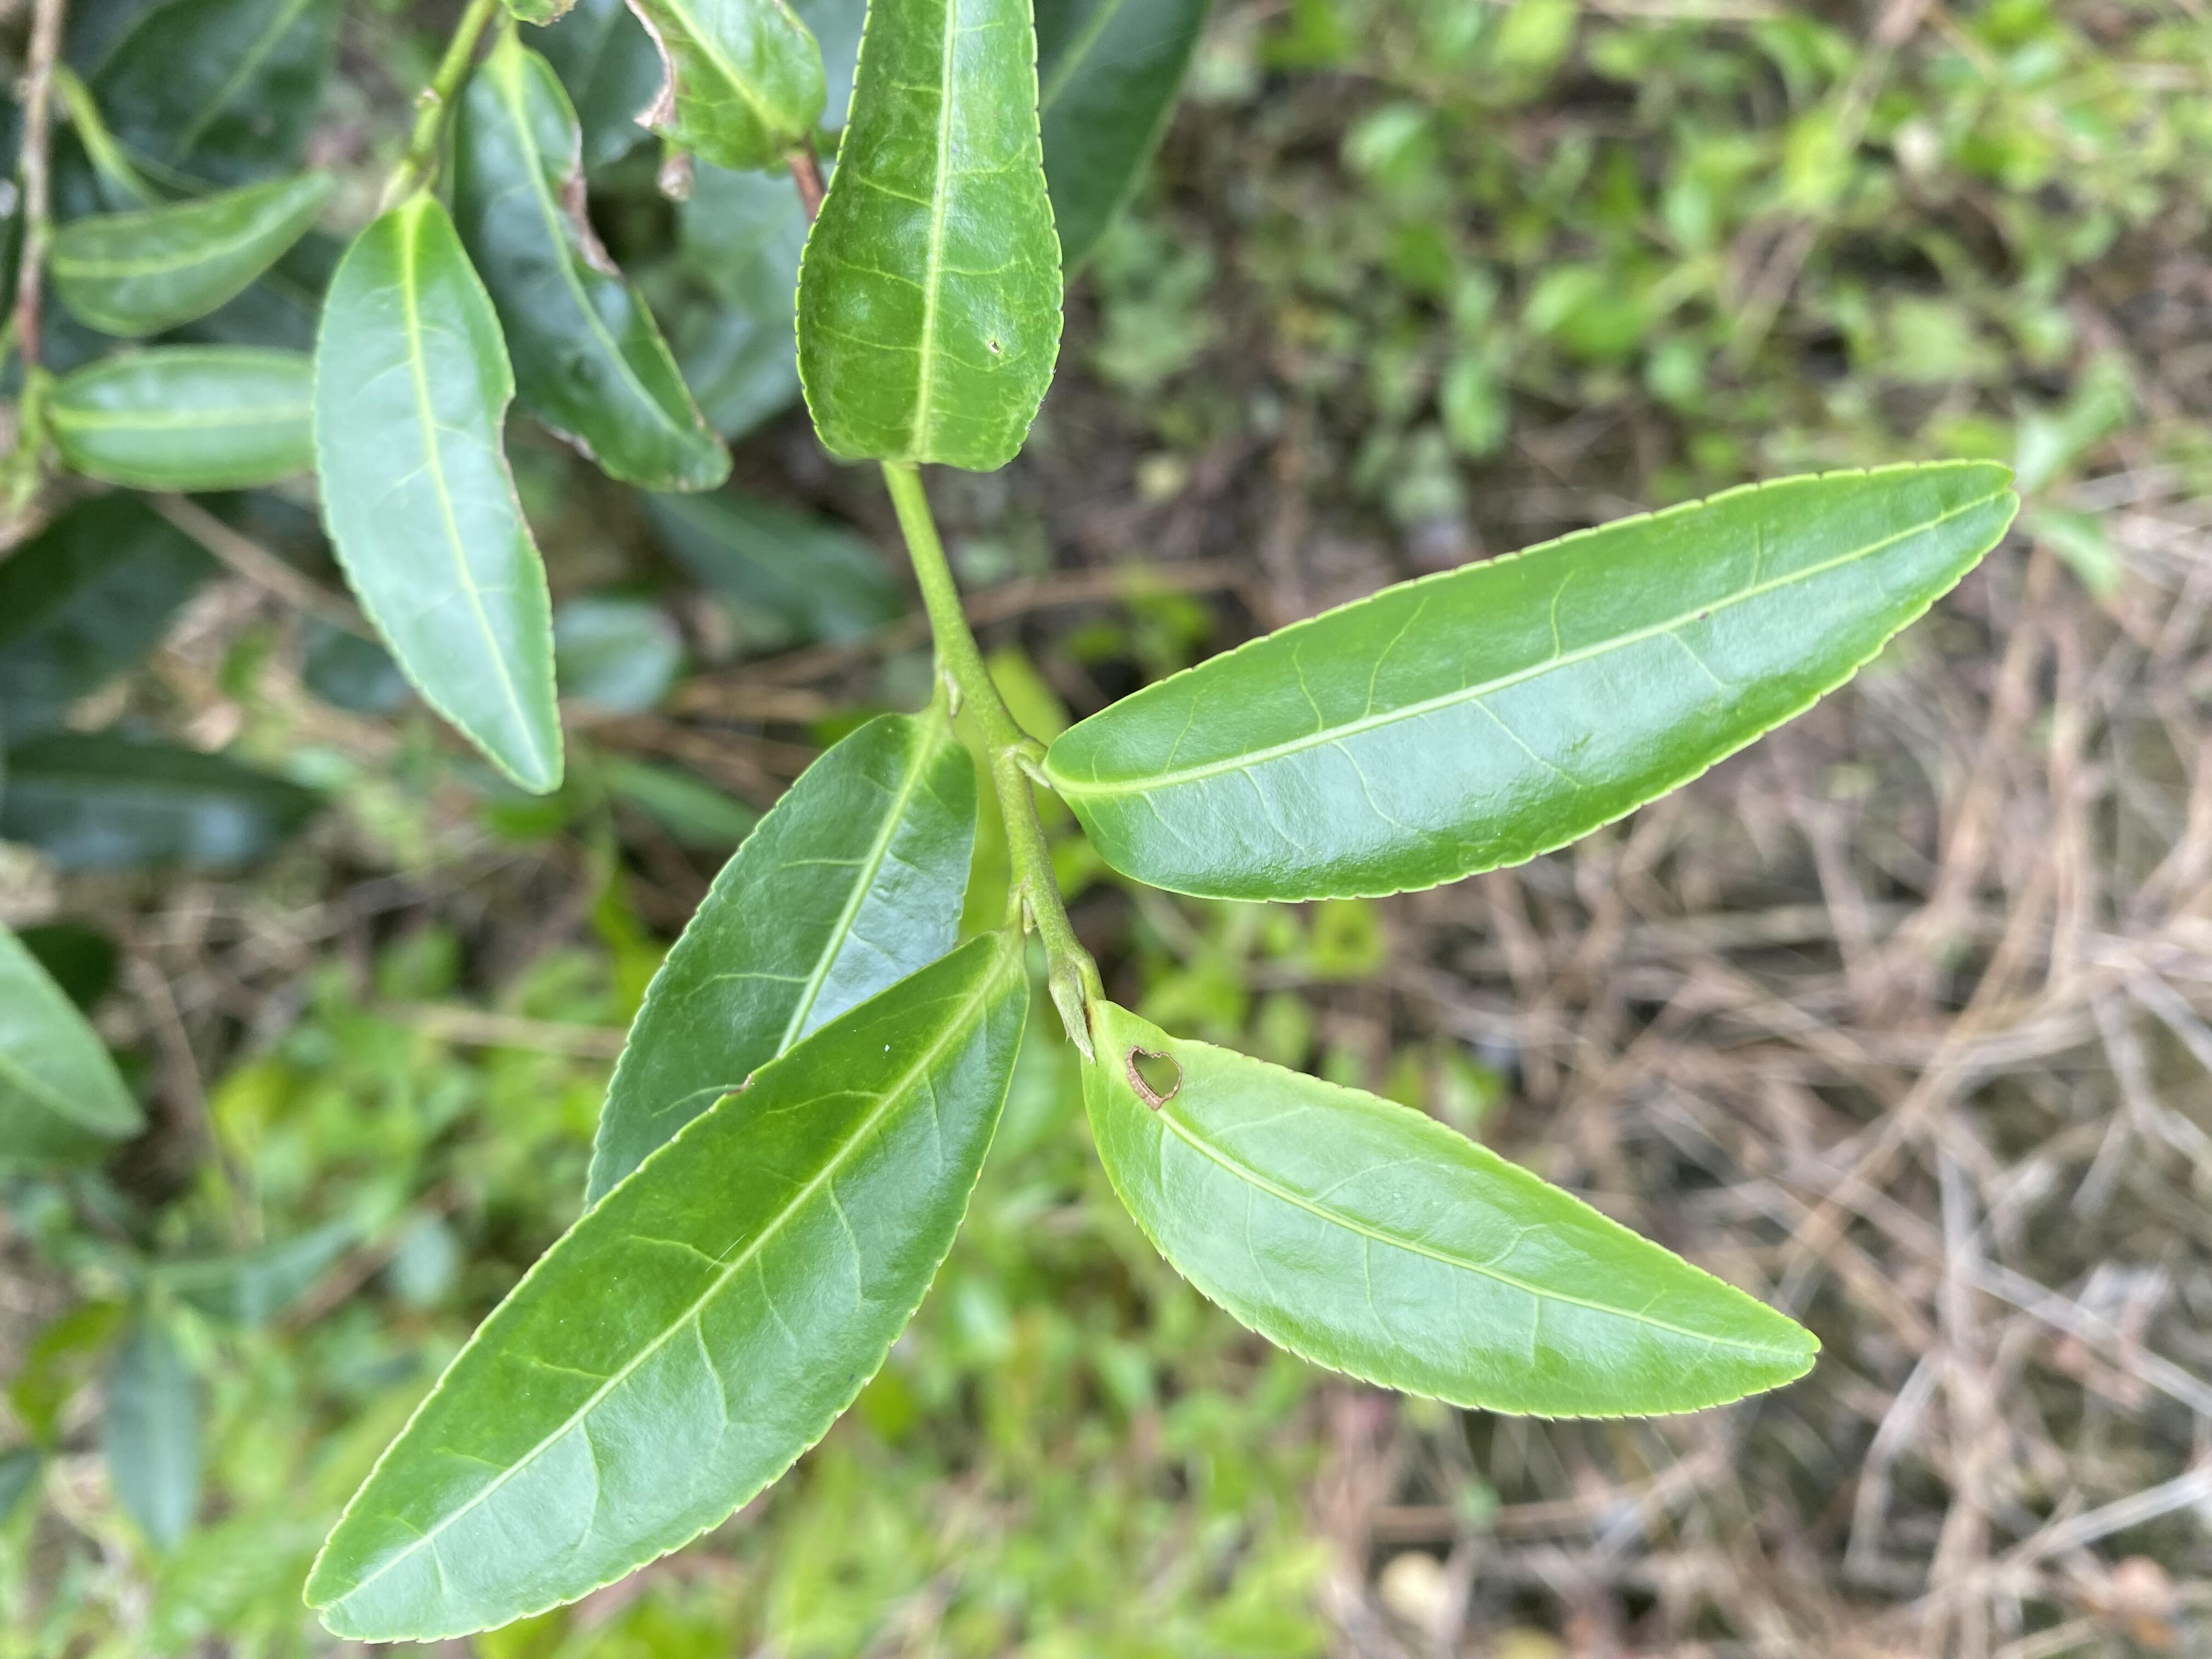chihuo_low: (1076, 993, 1825, 1424), (312, 199, 566, 789)
healthy: (300, 927, 1033, 1645), (1047, 460, 2019, 908), (585, 709, 981, 1220), (792, 2, 1066, 474)
tanju_low: (456, 44, 733, 493)
